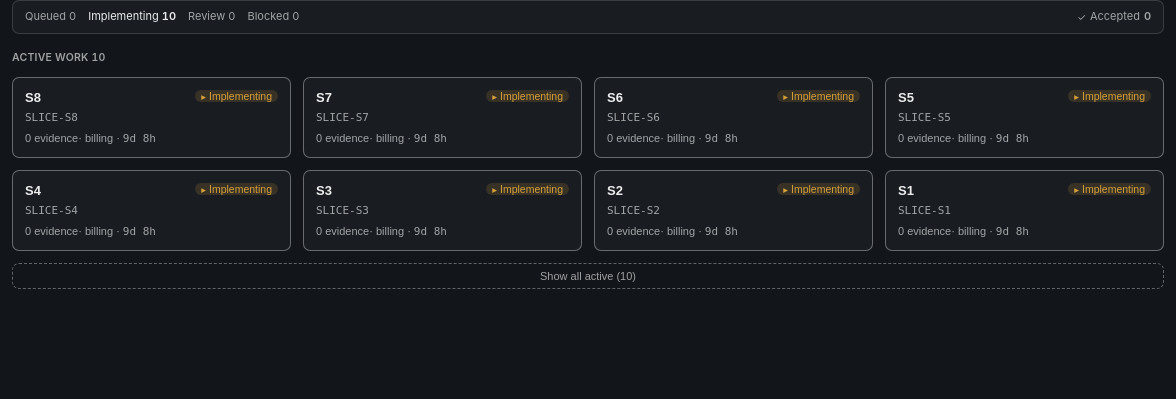
Test: WorkBoard › caps the active grid at 8 and expands on demand
The image size is (1176, 399).
Click the button "Show all active (10)".
click(588, 276)  # box [12,263,1164,289]
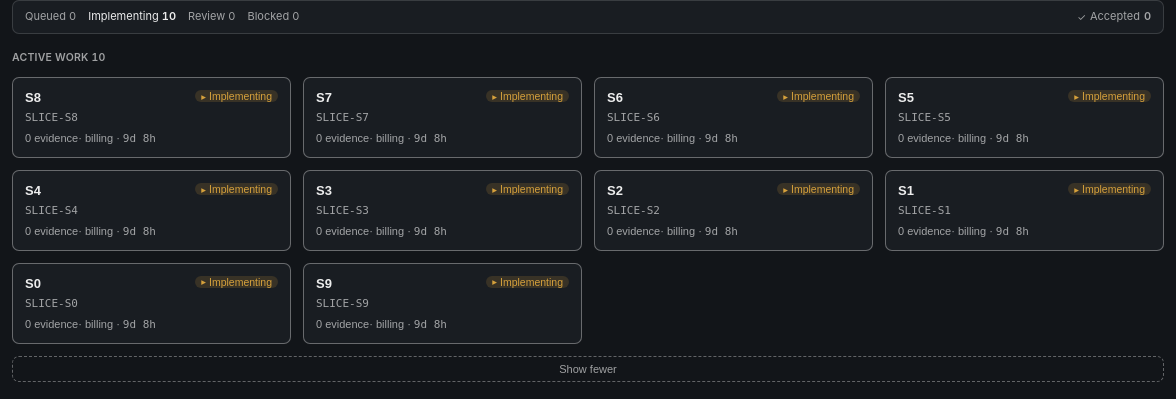
Expected: the number of buttons with class "slice-card" is 10
